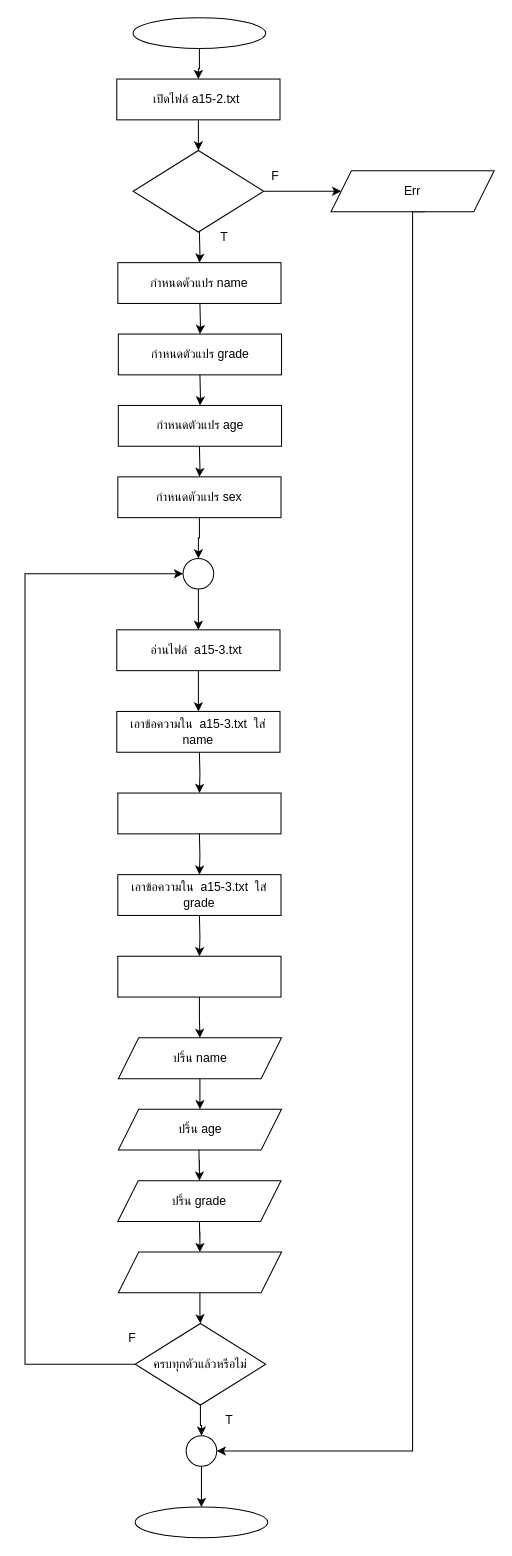
The diagram is 512 pixels wide and 1556 high, and some of its shapes have lost their labels. Here are the shapes that lost their labels. From the top down, the box of each, then its label:
(132, 17, 266, 48): Start
(132, 149, 264, 232): เปิดได้หรือไม่
(117, 792, 281, 834): เอาข้อความใน a15-3.txt ใส่ age
(117, 955, 281, 997): เอาข้อความใน a15-3.txt ใส่ sex
(117, 1251, 282, 1293): ปริ้น sex
(134, 1506, 268, 1538): End
